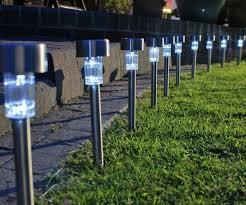Lamp: (0, 34, 50, 127), (73, 37, 112, 91), (118, 31, 146, 84), (158, 33, 176, 62), (190, 29, 201, 59), (175, 30, 187, 55), (217, 31, 229, 53), (207, 30, 218, 50), (236, 34, 246, 48)
